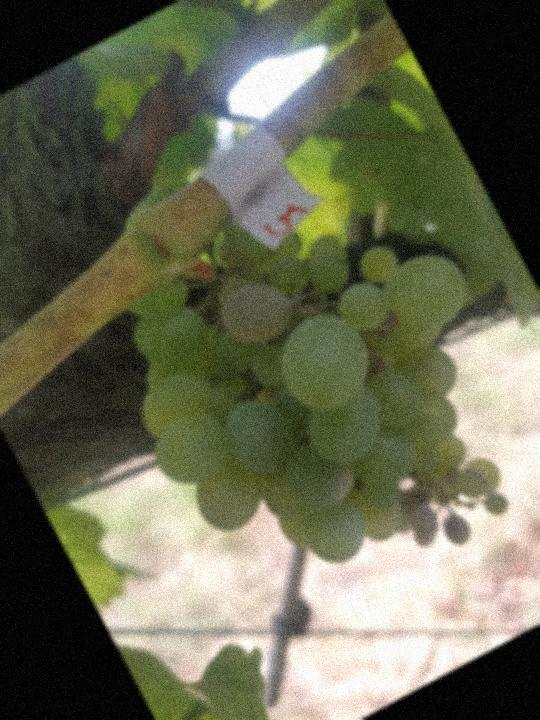grape: (72, 142, 540, 657)
